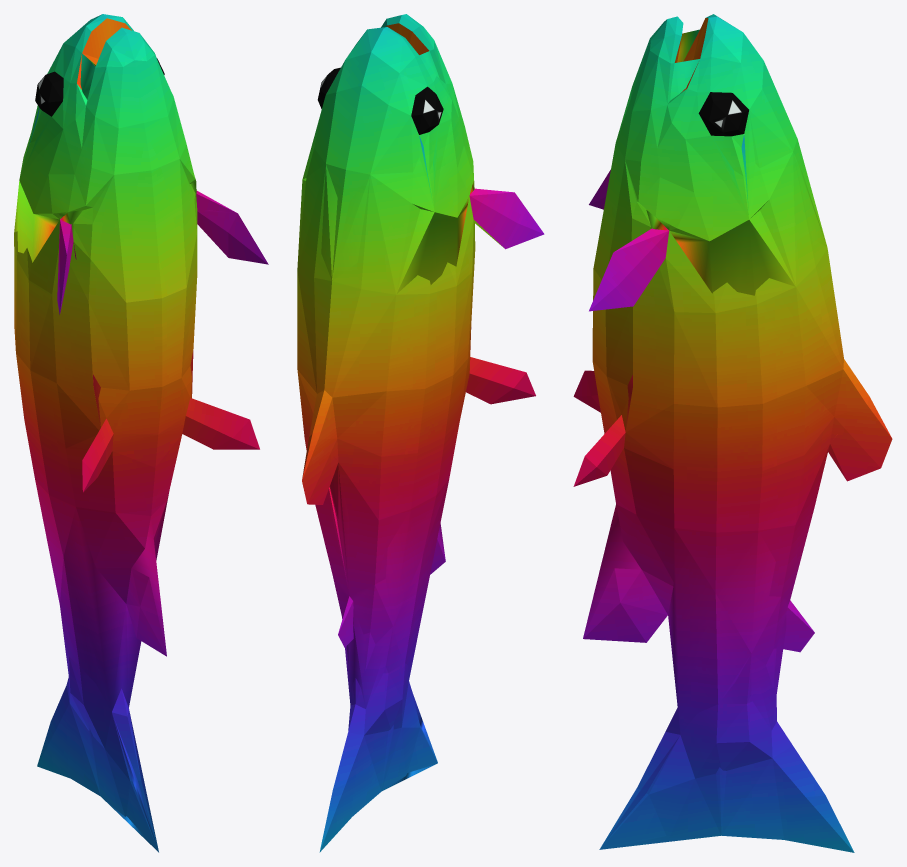
Rendered from item_fish_rainbow_trout.glb.
3 renders of one model, left to right at view 1: azimuth 30°, elevation 25°; view 2: azimuth 150°, elevation 25°; view 3: azimuth 270°, elevation 25°, orthographic. The views are drawn at different scales.
Parts seen in each view (by area): view 1: rainbowTrout; view 2: rainbowTrout; view 3: rainbowTrout.
Part boxes in pixels (x1=…): rainbowTrout: x1=14, y1=14, x2=268, y2=852; rainbowTrout: x1=297, y1=14, x2=544, y2=852; rainbowTrout: x1=573, y1=14, x2=892, y2=852.
Size of the model in its own units: 0.133 by 0.4869 by 0.1683.
Materials: 1 (1 with a texture image).
